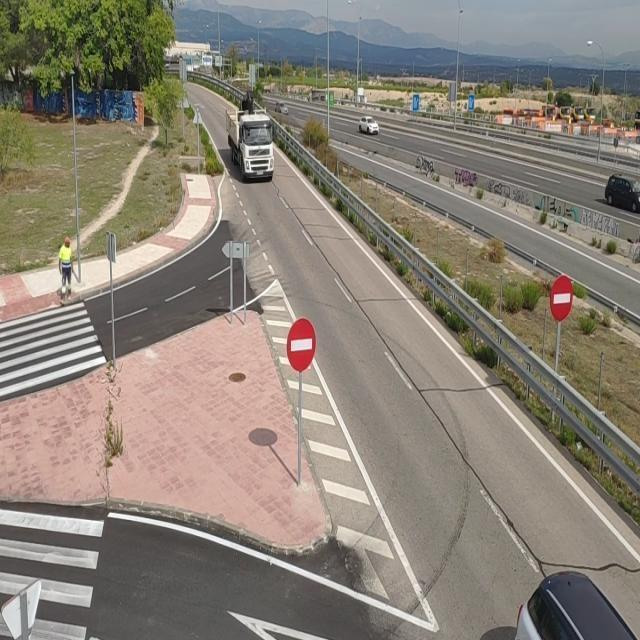Car: (514, 569, 640, 640), (360, 115, 380, 137), (274, 101, 288, 115)
Truck: (223, 109, 276, 184)
Van: (605, 174, 640, 214)
